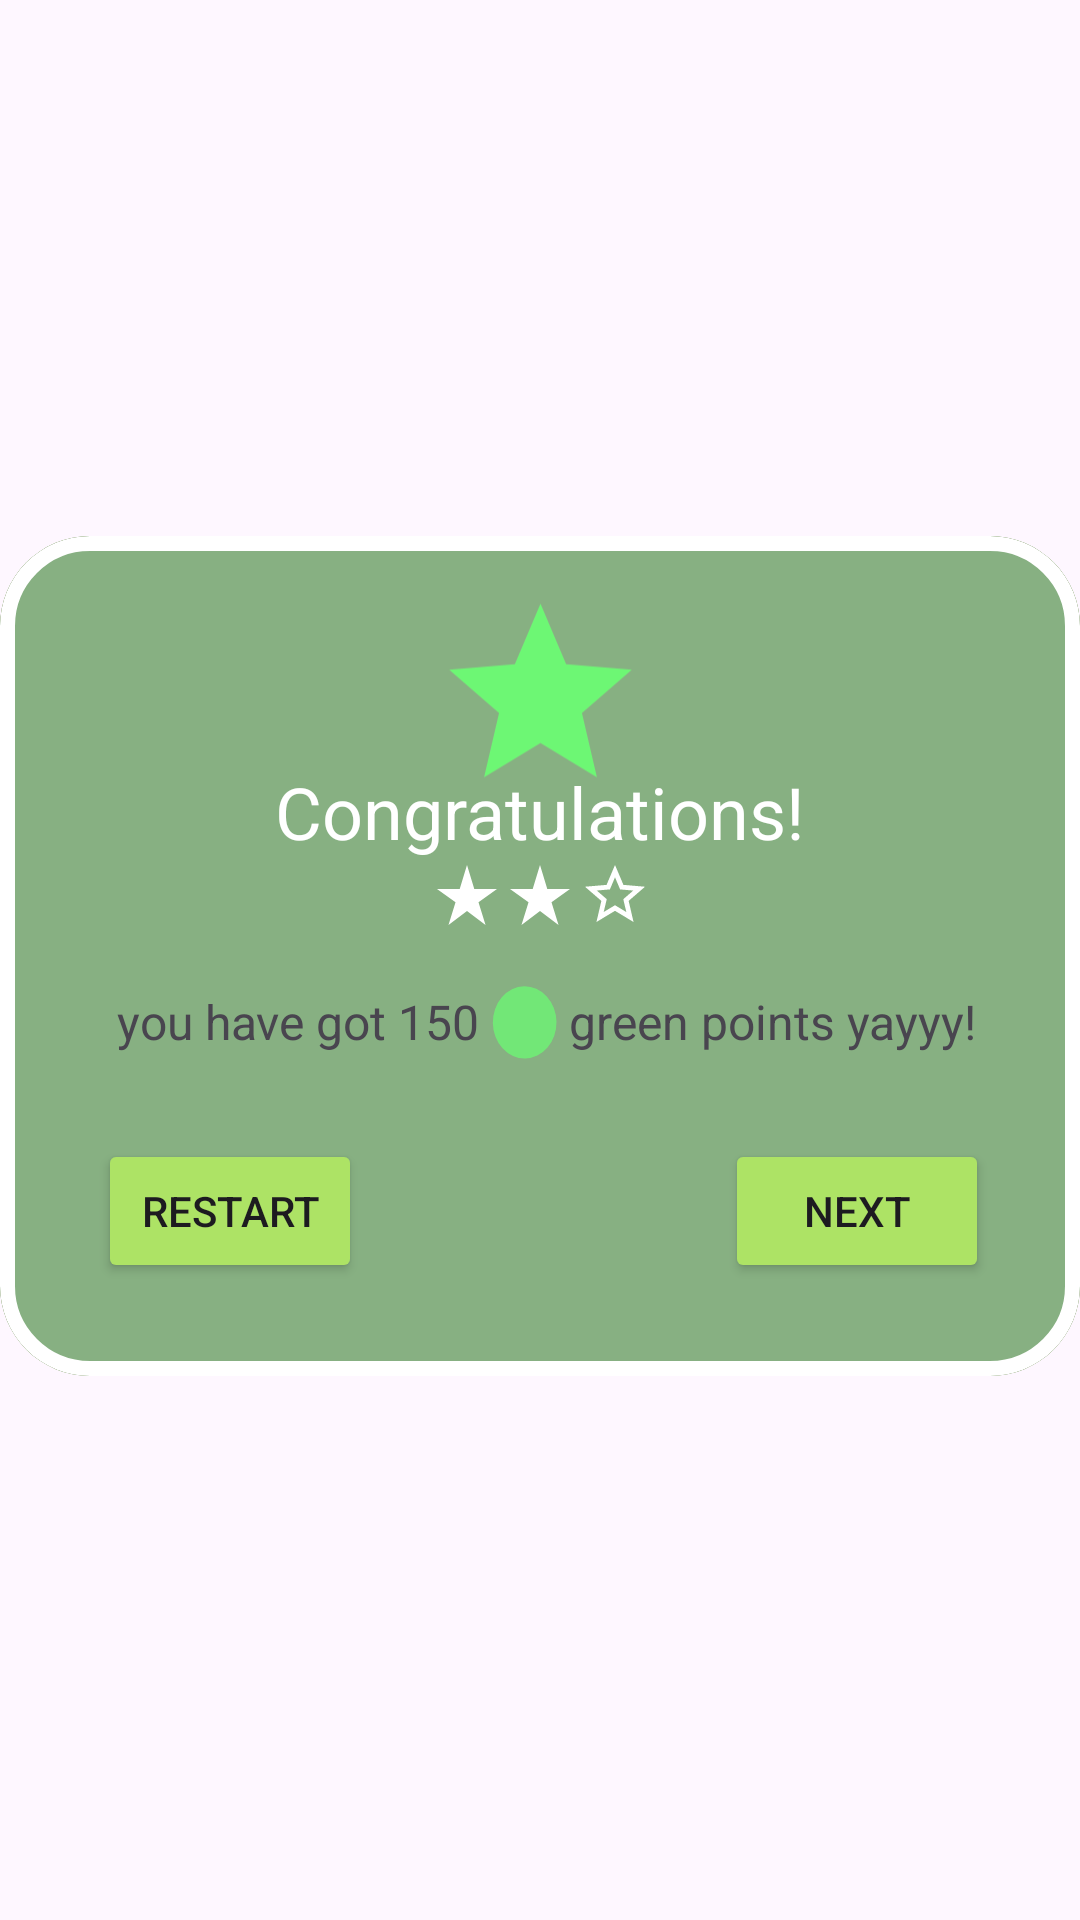

Named icons in this screenshot (1080x1920) and their centers, (x=x, y=y):
star: (x=540, y=690)
star border: (x=615, y=894)
star rate: (x=467, y=895), (x=540, y=895)
